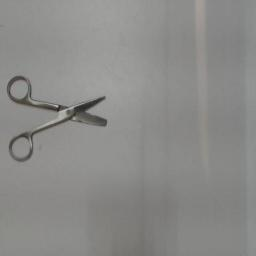Dressing Scissors: (4, 70, 118, 168)
